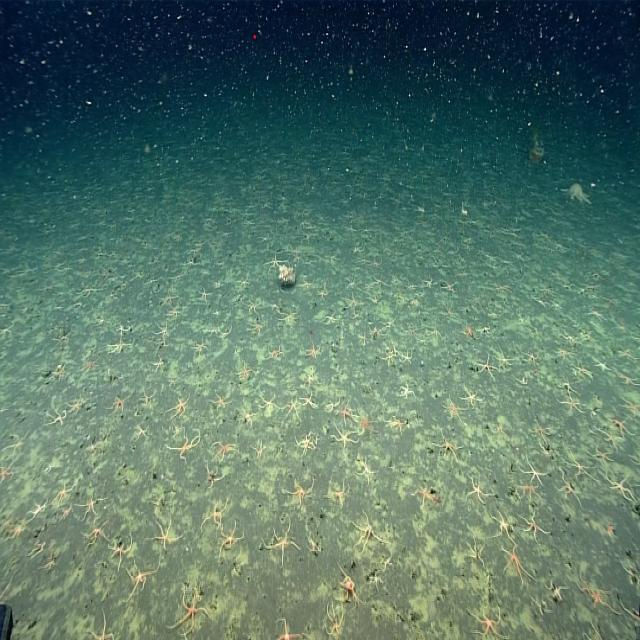brittle-stars: (167, 591, 213, 638), (566, 574, 617, 614), (264, 522, 300, 560), (127, 561, 159, 602), (352, 517, 392, 548), (336, 564, 363, 606), (500, 546, 530, 582), (561, 454, 599, 482), (168, 432, 201, 464), (469, 608, 501, 639), (152, 520, 182, 550), (520, 508, 548, 540), (465, 472, 491, 504), (607, 474, 636, 502), (0, 432, 30, 459), (556, 476, 583, 506), (202, 499, 227, 530), (432, 433, 463, 458), (489, 512, 516, 540), (89, 611, 114, 640), (49, 482, 76, 508), (286, 478, 315, 502), (84, 518, 106, 549), (323, 605, 345, 636), (328, 430, 359, 452), (220, 526, 246, 552), (521, 460, 547, 486), (110, 536, 132, 566), (76, 495, 106, 516), (324, 482, 349, 507), (604, 414, 632, 436), (611, 367, 640, 388), (166, 394, 191, 418), (594, 427, 623, 447), (6, 519, 29, 543), (466, 538, 487, 564), (442, 399, 465, 422), (25, 498, 47, 522), (460, 383, 482, 407), (618, 600, 640, 624), (274, 619, 299, 640), (516, 484, 542, 504), (619, 559, 640, 583), (8, 264, 38, 280), (355, 460, 376, 482), (618, 395, 640, 416), (477, 355, 498, 376), (530, 422, 551, 443), (590, 445, 612, 465), (293, 436, 316, 455), (211, 443, 235, 461), (108, 395, 129, 415), (356, 415, 376, 436), (544, 584, 569, 600), (78, 358, 99, 377), (210, 394, 232, 412), (536, 440, 558, 458), (412, 487, 436, 503), (205, 466, 224, 486), (344, 294, 363, 314), (284, 398, 300, 421), (40, 552, 59, 571), (572, 363, 593, 380), (338, 406, 354, 428), (560, 396, 582, 412), (305, 535, 323, 554), (588, 306, 606, 325), (241, 298, 261, 315), (52, 329, 72, 346), (531, 598, 551, 615), (258, 398, 279, 414), (583, 623, 602, 640), (266, 256, 286, 272), (617, 348, 638, 363), (77, 286, 101, 299), (495, 351, 513, 368), (169, 268, 187, 285), (247, 320, 266, 336), (46, 413, 66, 428), (0, 462, 14, 483), (28, 544, 46, 560), (302, 393, 318, 411), (399, 382, 415, 400), (380, 352, 398, 368), (558, 379, 576, 395), (108, 341, 130, 354), (154, 325, 169, 344), (139, 389, 155, 406), (324, 397, 341, 413), (523, 348, 539, 365), (0, 323, 14, 342), (594, 357, 610, 373), (487, 304, 502, 321), (559, 332, 580, 344), (369, 572, 383, 590), (369, 324, 387, 338), (392, 416, 404, 436), (241, 410, 257, 425), (161, 293, 176, 309), (68, 396, 82, 413), (236, 364, 253, 378), (456, 324, 473, 338), (555, 347, 573, 360), (306, 343, 321, 358), (192, 340, 208, 354), (268, 347, 284, 361), (250, 444, 266, 458), (164, 309, 181, 322), (280, 312, 298, 324), (297, 278, 315, 290), (217, 326, 232, 340), (197, 288, 212, 302), (59, 505, 72, 521), (533, 296, 550, 308), (496, 284, 514, 295), (399, 351, 413, 365), (323, 312, 338, 325), (430, 327, 443, 342), (344, 275, 357, 290), (442, 305, 455, 319), (52, 366, 64, 381), (371, 278, 389, 288), (580, 332, 595, 344), (379, 319, 396, 329), (136, 424, 148, 438), (366, 294, 380, 306), (152, 357, 163, 372), (358, 332, 368, 348), (404, 326, 420, 336), (326, 252, 342, 262), (475, 327, 492, 336), (304, 372, 314, 387), (492, 424, 507, 434), (382, 555, 392, 570), (39, 284, 54, 294), (355, 256, 370, 266), (117, 324, 129, 336), (182, 259, 198, 268), (202, 328, 220, 336), (370, 255, 382, 267), (353, 243, 366, 254), (236, 278, 250, 288), (318, 287, 328, 301), (442, 282, 457, 291), (541, 287, 554, 297), (257, 234, 271, 243), (293, 254, 304, 265), (551, 301, 563, 311), (187, 248, 200, 257), (56, 267, 70, 275), (168, 378, 179, 388), (45, 462, 54, 474), (391, 275, 401, 285), (422, 280, 434, 288), (95, 318, 104, 328), (486, 254, 497, 262), (516, 378, 528, 385), (1, 266, 9, 276), (406, 284, 417, 290), (244, 220, 255, 226)
